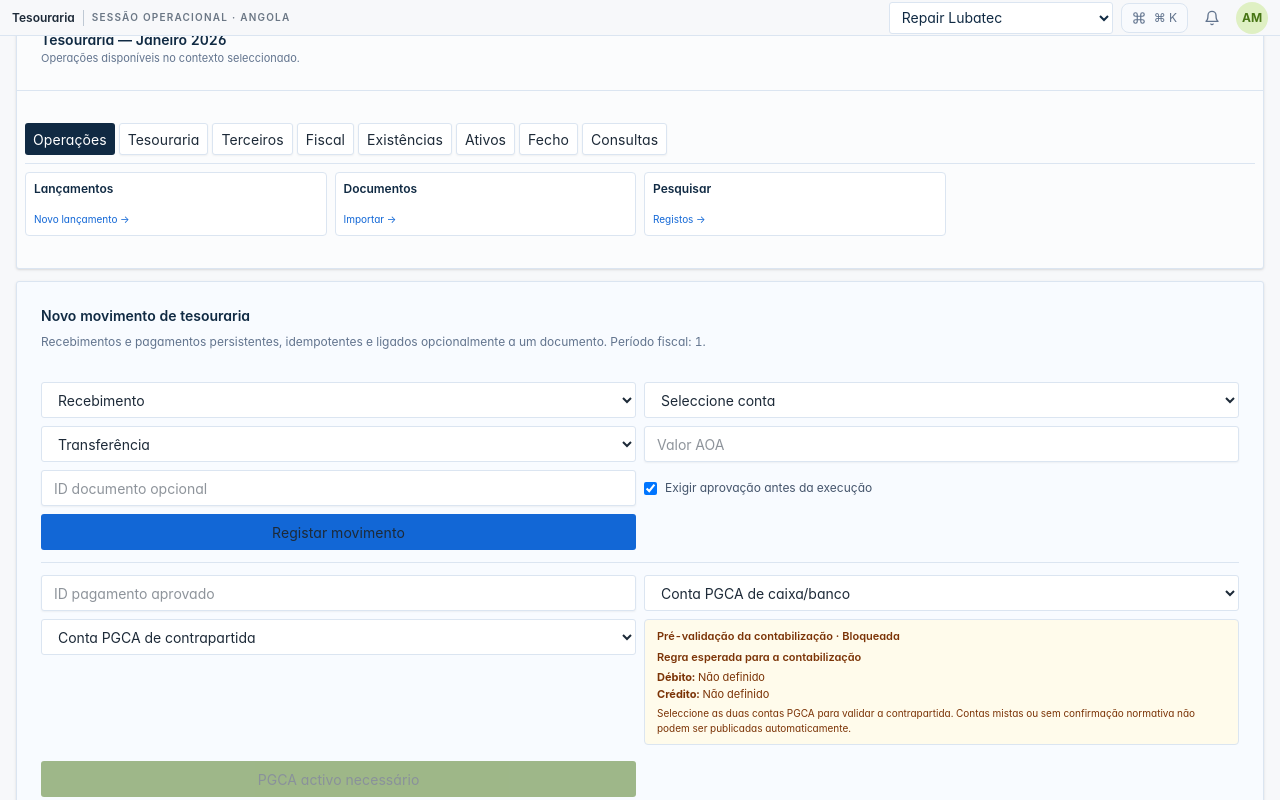
Scenario: Home traceability integration › registers a treasury receipt with an active cash account
(page scrolled)
Select "Banco de teste" in the dropdown named "Conta de tesouraria". click: (942, 400)
box: left=644, top=382, right=1239, bottom=418
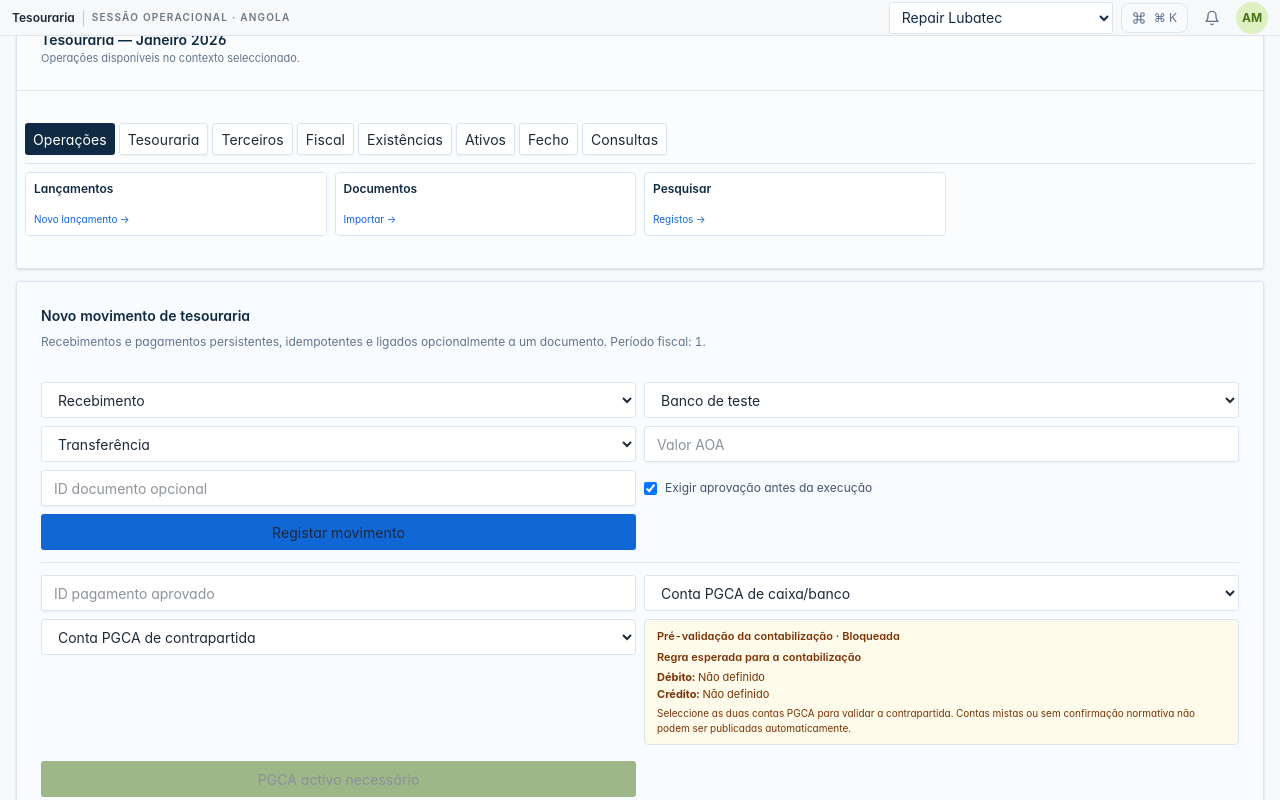
Type "3000" into the number field with placeholder "Valor AOA". click: (942, 444)
box: left=644, top=426, right=1239, bottom=462
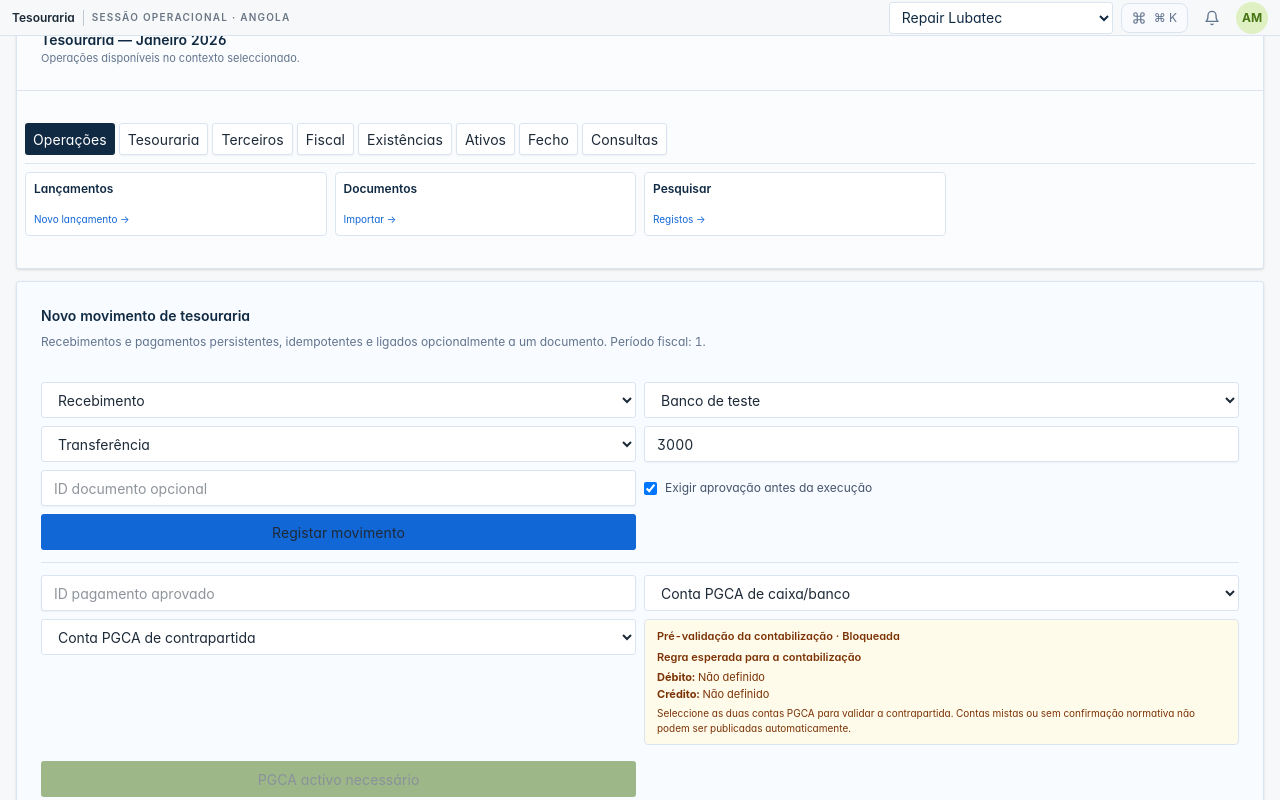
Click the button "Registar movimento". click: (338, 532)
box: left=41, top=514, right=636, bottom=550
(page scrolled)
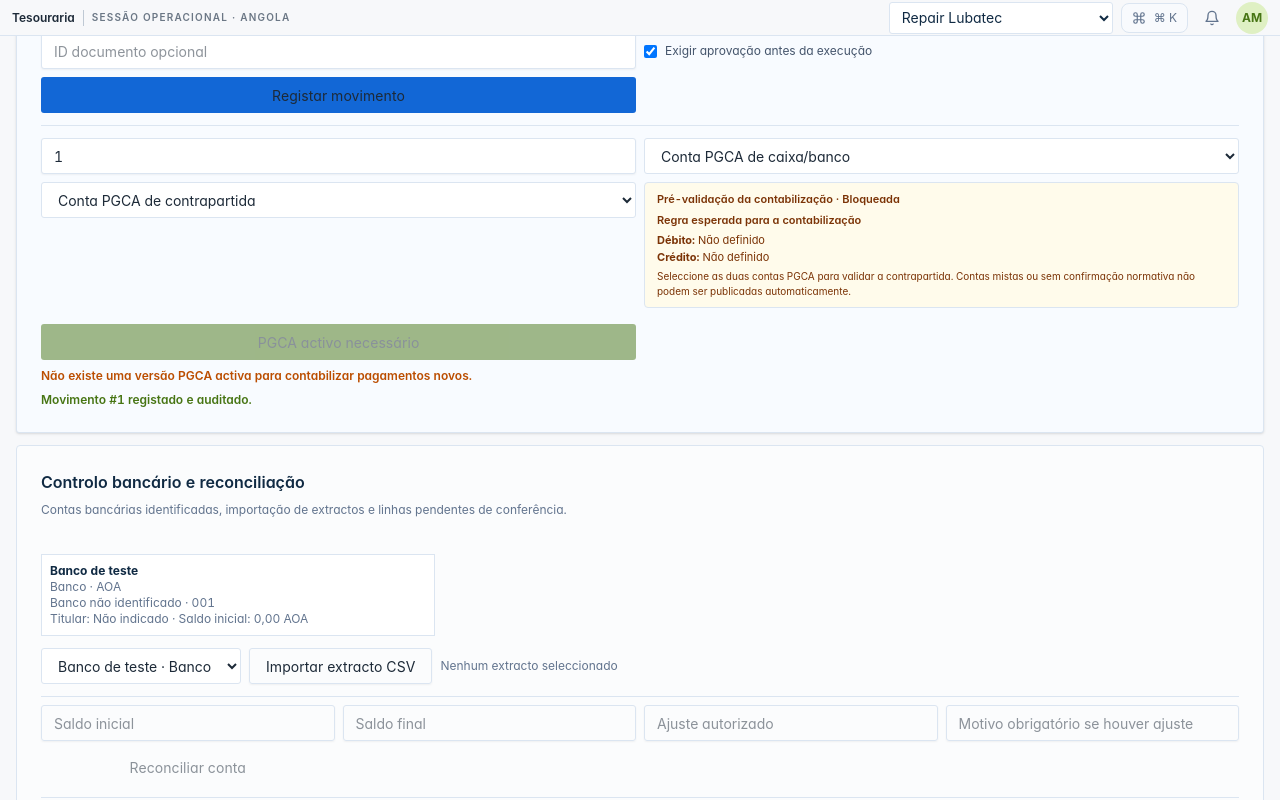
Check: the text "Movimento #1 registado e auditado." is shown, box left=41, top=392, right=252, bottom=407
